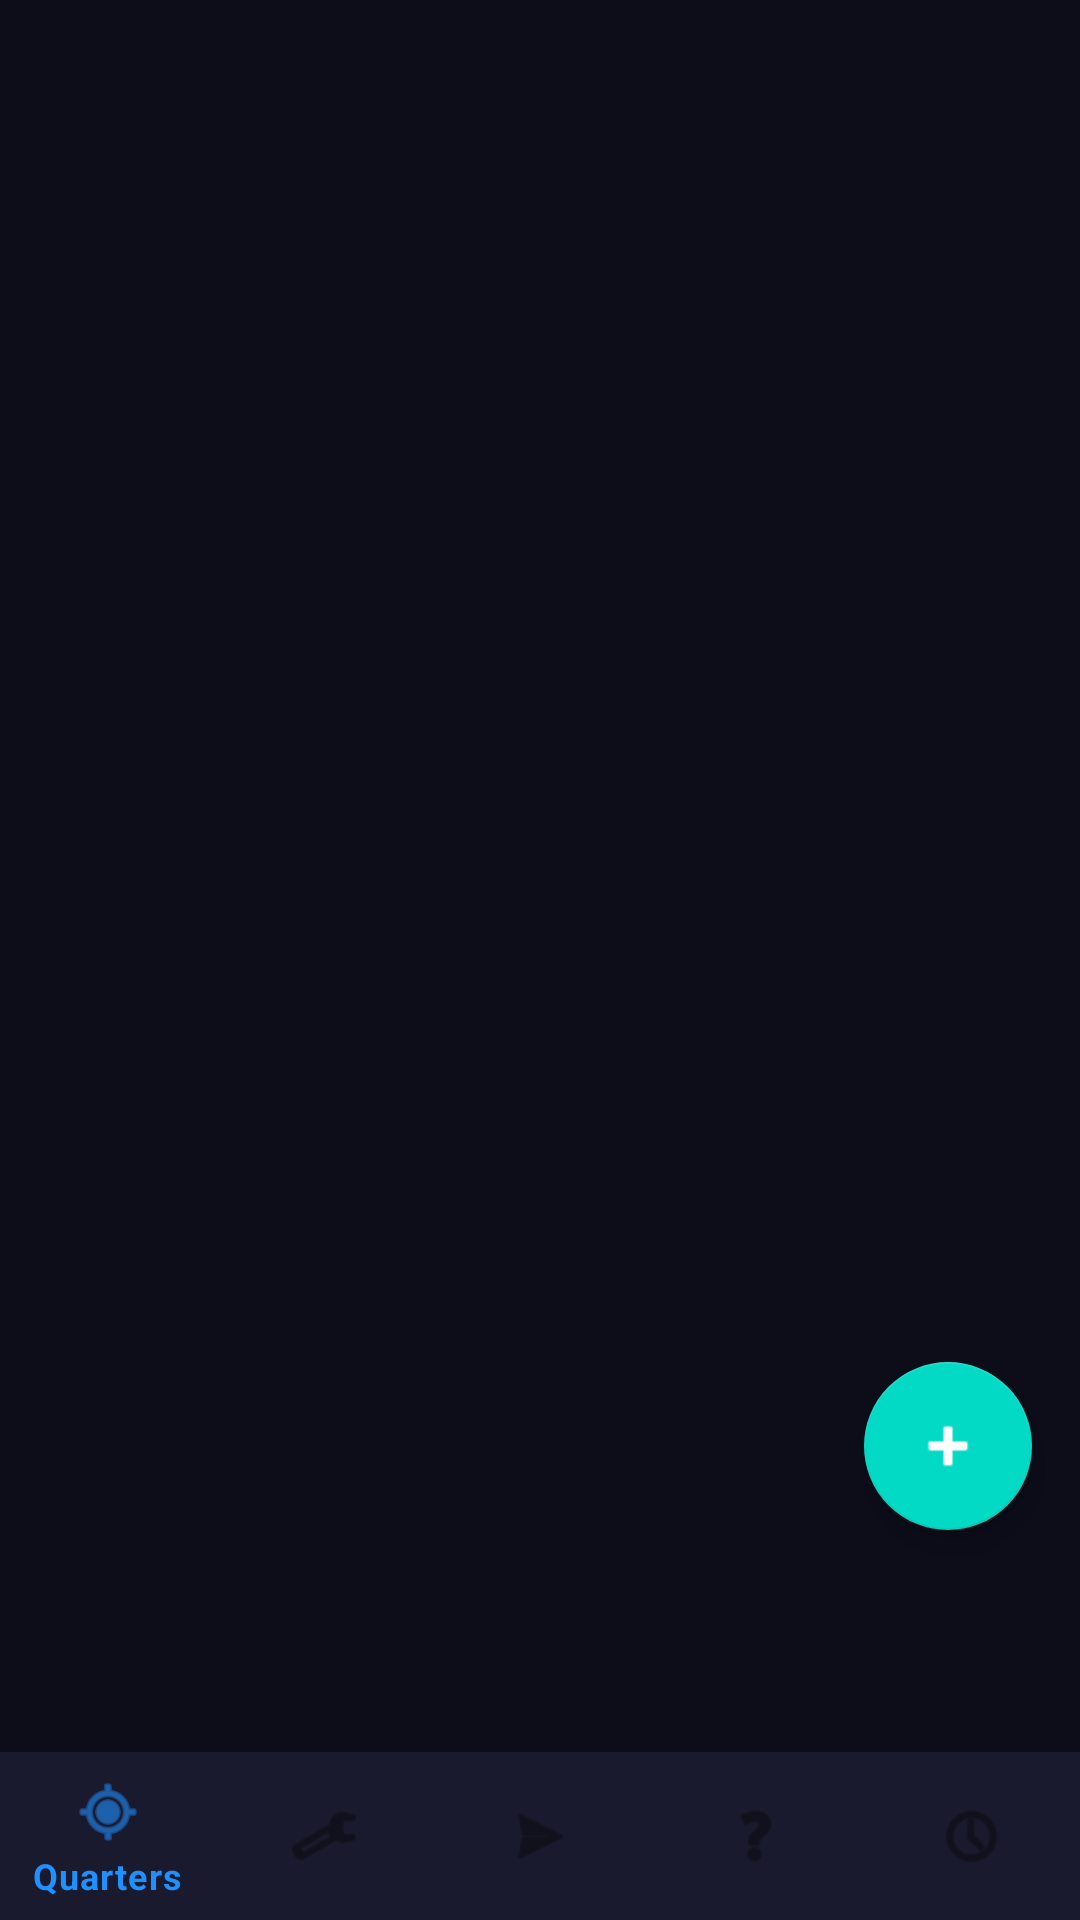

Locate icon controls on the screen. Image size 1080 x 1920, boxes as [x1,y1,x2,y2].
add: [864,1362,1032,1530]
